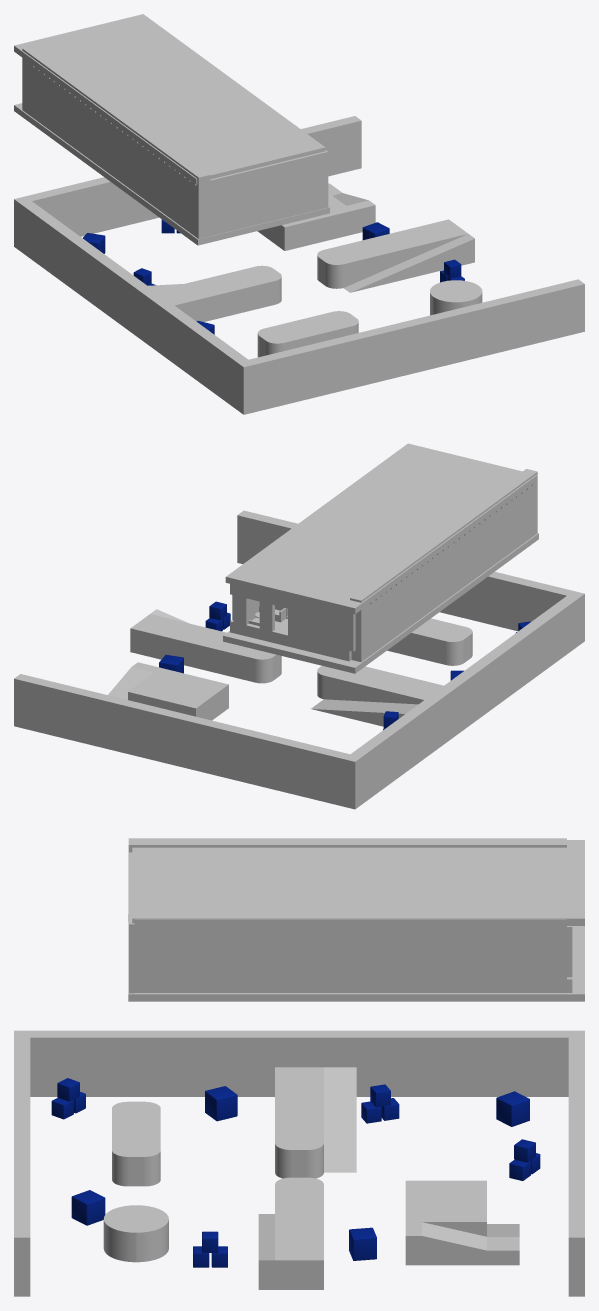
The model's file is LOBBYGREYBOX.fbx.
3 views of the same model, one above another, from view 1: azimuth 30°, elevation 25°; view 2: azimuth 150°, elevation 25°; view 3: azimuth 270°, elevation 25° (orthographic). The views are drawn at different scales.
Visible parts, largest first — view 1: SM_Cube75, SM_Cube3, SM_Cube5, SM_Cube6, SM_Cube2, SM_Cube21, SM_Cube8, SM_Cube15, SM_Cube4, SM_Ramp5, SM_Cube, SM_Cube11 (+2 smaller); view 2: SM_Cube75, SM_Cube2, SM_Cube5, SM_Cube6, SM_Cube3, SM_Cube15, SM_Cube4, SM_Cube8, SM_Cube, SM_Cube77, SM_Cube11, SM_Ramp4 (+7 smaller); view 3: SM_Cube75, SM_Cube5, SM_Cube19, SM_Cube15, SM_Cube, SM_Cube2, SM_Cube3, SM_Cube6, SM_Cube4, SM_Cube8, SM_Ramp4, SM_Cube9 (+16 smaller).
Boxes of the visible parts, <box> form: SM_Cube75: <box>14,14,325,184</box>; SM_Cube3: <box>237,279,584,414</box>; SM_Cube5: <box>20,201,248,409</box>; SM_Cube6: <box>22,45,210,238</box>; SM_Cube2: <box>14,116,361,251</box>; SM_Cube21: <box>210,150,328,236</box>; SM_Cube8: <box>155,266,275,321</box>; SM_Cube15: <box>324,219,468,287</box>; SM_Cube4: <box>257,193,352,250</box>; SM_Ramp5: <box>344,234,474,292</box>; SM_Cube: <box>14,103,329,245</box>; SM_Cube11: <box>264,312,352,350</box>; SM_Cube75: <box>225,443,537,614</box>; SM_Cube2: <box>14,674,361,809</box>; SM_Cube5: <box>351,596,578,804</box>; SM_Cube6: <box>350,469,537,662</box>; SM_Cube3: <box>237,510,584,645</box>; SM_Cube15: <box>130,614,264,682</box>; SM_Cube4: <box>128,668,228,720</box>; SM_Cube8: <box>323,666,443,704</box>; SM_Cube: <box>223,533,538,673</box>; SM_Cube77: <box>288,598,355,651</box>; SM_Cube11: <box>387,618,465,664</box>; SM_Ramp4: <box>311,699,417,726</box>; SM_Cube75: <box>132,840,584,925</box>; SM_Cube5: <box>30,1030,568,1096</box>; SM_Cube19: <box>134,919,566,992</box>; SM_Cube15: <box>275,1184,323,1289</box>; SM_Cube: <box>128,914,584,1001</box>; SM_Cube2: <box>568,1030,584,1296</box>; SM_Cube3: <box>14,1030,30,1296</box>; SM_Cube6: <box>128,838,566,921</box>; SM_Cube4: <box>405,1180,486,1236</box>; SM_Cube8: <box>275,1067,323,1142</box>; SM_Ramp4: <box>324,1067,356,1172</box>; SM_Cube9: <box>405,1237,519,1265</box>.
Size of what is drawn, in the model's own units: 3000 by 3500 by 1708.
